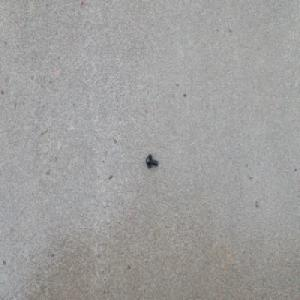BoltWasher: (145, 153, 158, 168)
